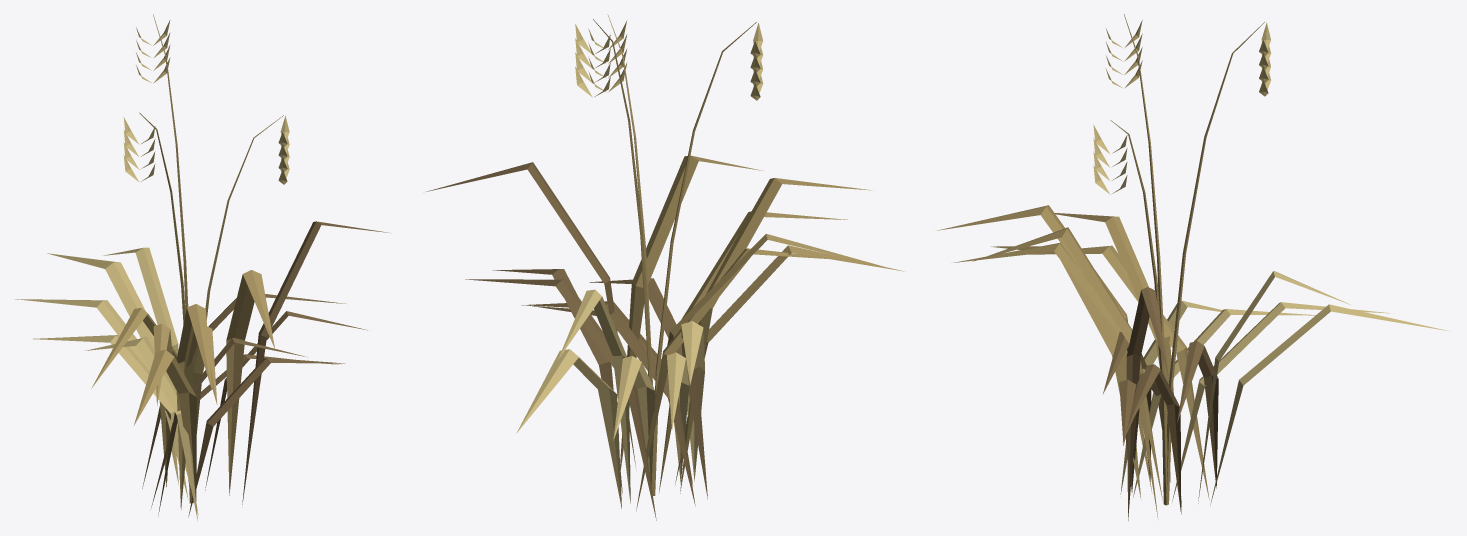
The model's file is SAND_GRASS_CLUMP.lo.glb.
3 views of the same model, side by side, from view 1: azimuth 30°, elevation 25°; view 2: azimuth 150°, elevation 25°; view 3: azimuth 270°, elevation 25° (orthographic). The views are drawn at different scales.
Visible parts, largest first — view 1: SAND_GRASS_CLUMP; view 2: SAND_GRASS_CLUMP; view 3: SAND_GRASS_CLUMP.
Boxes of the visible parts, x1,y1,x2,y2 form: SAND_GRASS_CLUMP: (15,14,391,521); SAND_GRASS_CLUMP: (426,14,903,520); SAND_GRASS_CLUMP: (937,14,1449,520).
Bounding box in the file's own units: 0.5435 × 0.6503 × 0.6269.
Materials: 1 (1 with a texture image).
